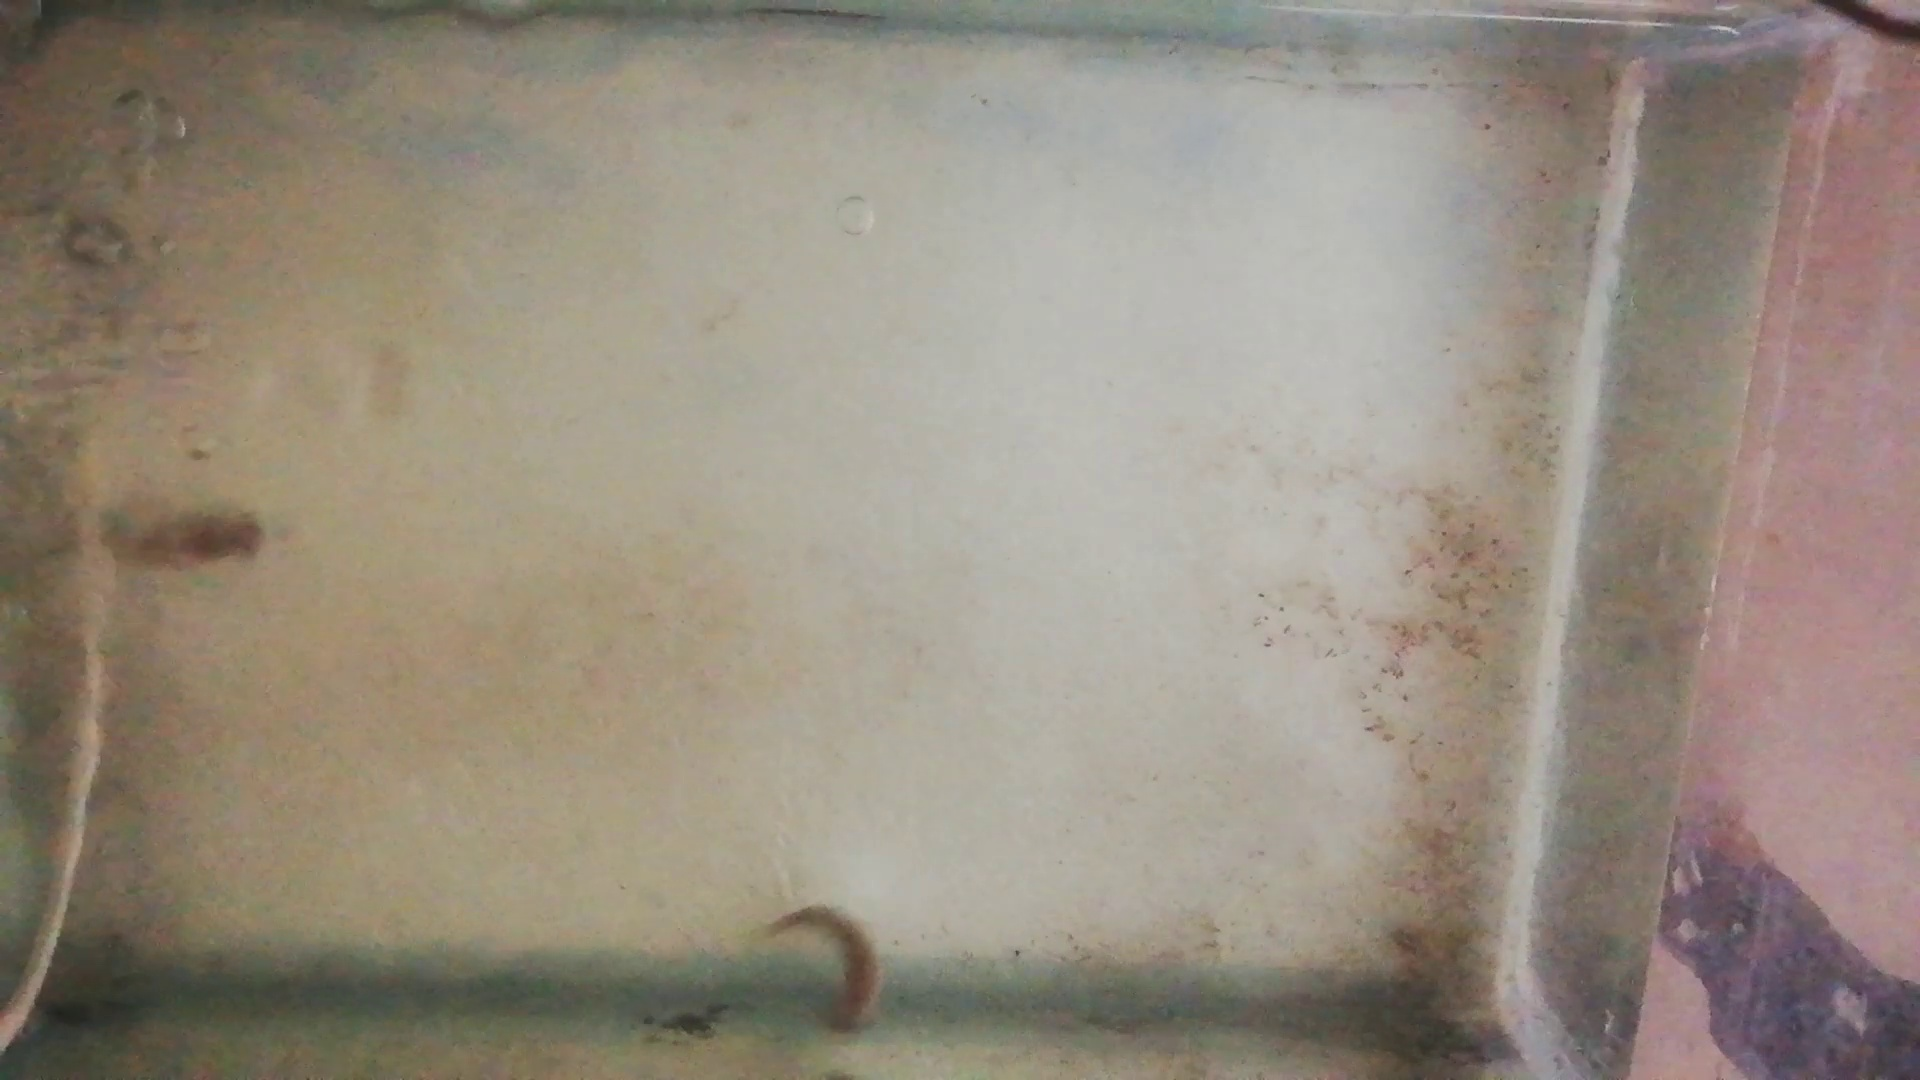fish: (770, 899, 884, 1035), (98, 512, 268, 570)
